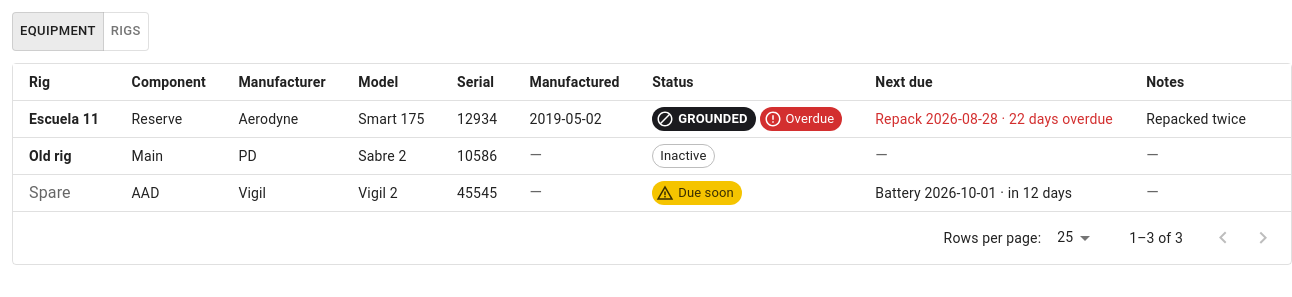
Scenario: GearGrid › rigs table › lists each rig with its four components, status, next due, last inspection and notes
Click the button "Rigs".
click(126, 31)  # box top-left (103, 12), bottom-right (149, 51)
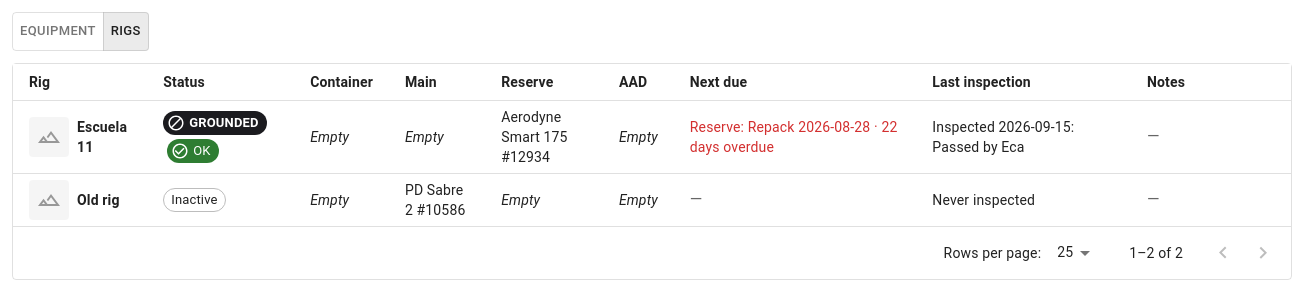
Now the link "Aerodyne Smart 175 #12934" is shown, box top-left (501, 109), bottom-right (568, 165)
Now the text "Empty" is shown 3 times, box top-left (310, 129), bottom-right (349, 145); top-left (405, 129), bottom-right (444, 145); top-left (619, 129), bottom-right (658, 145)
Now the text "Reserve: Repack 2026-08-28 · 22 days overdue" is shown, box top-left (690, 117), bottom-right (900, 157)
